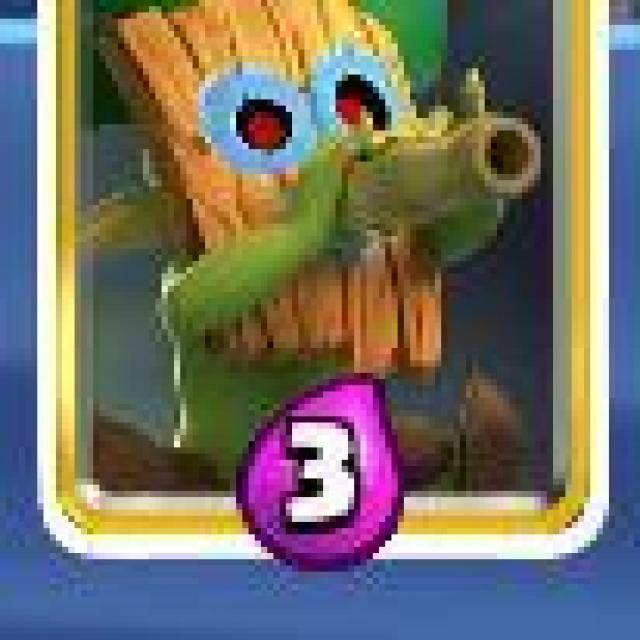Dart_Goblin: (33, 0, 618, 567)
